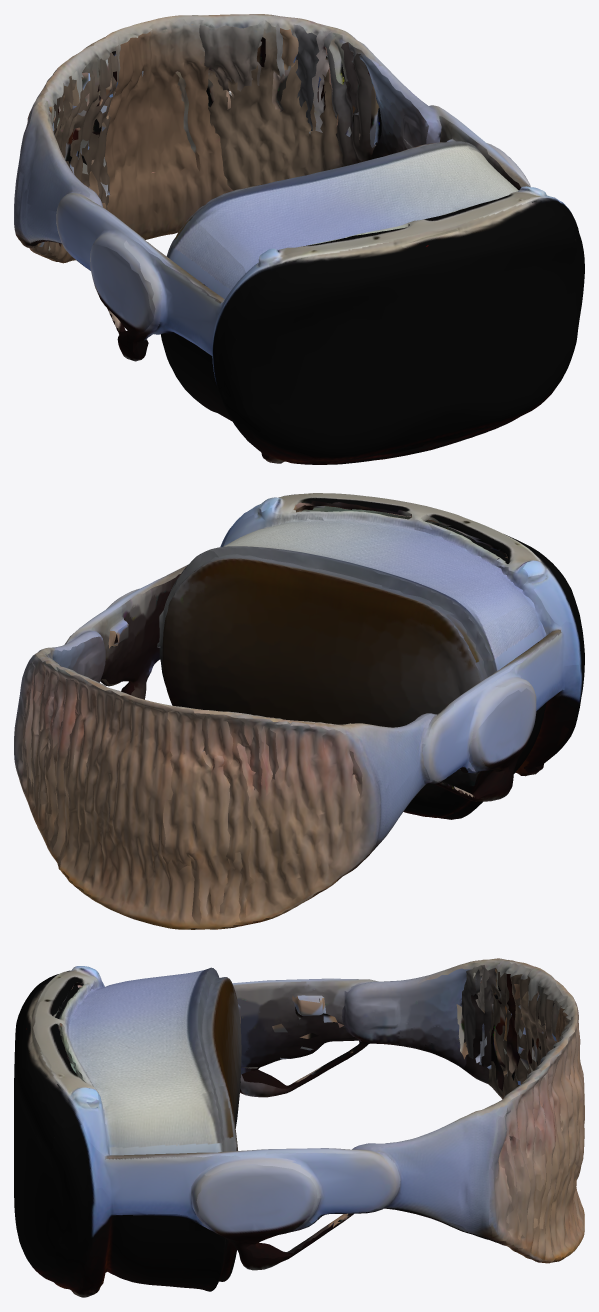
3 views of the same model, one above another, from view 1: azimuth 30°, elevation 25°; view 2: azimuth 150°, elevation 25°; view 3: azimuth 270°, elevation 25° (orthographic). The views are drawn at different scales.
Parts seen in each view (by area): view 1: tmpydw16zfq.ply; view 2: tmpydw16zfq.ply; view 3: tmpydw16zfq.ply.
Boxes of the visible parts, x1,y1,x2,y2 form: tmpydw16zfq.ply: [14, 14, 584, 464]; tmpydw16zfq.ply: [14, 493, 584, 929]; tmpydw16zfq.ply: [14, 958, 584, 1297].
Bounding box in the file's own units: 1.54 × 0.8783 × 1.99.
Materials: 1 (1 with a texture image).
